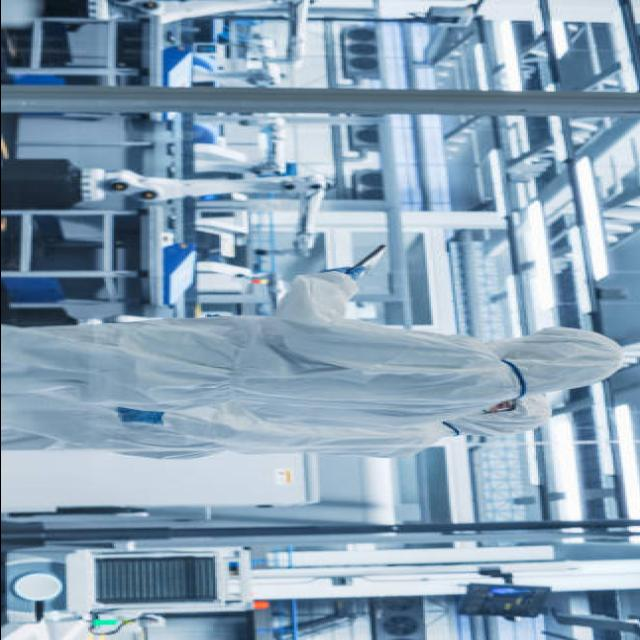Robotic-arm: (58, 171, 338, 258), (115, 1, 322, 73), (202, 116, 294, 172)
